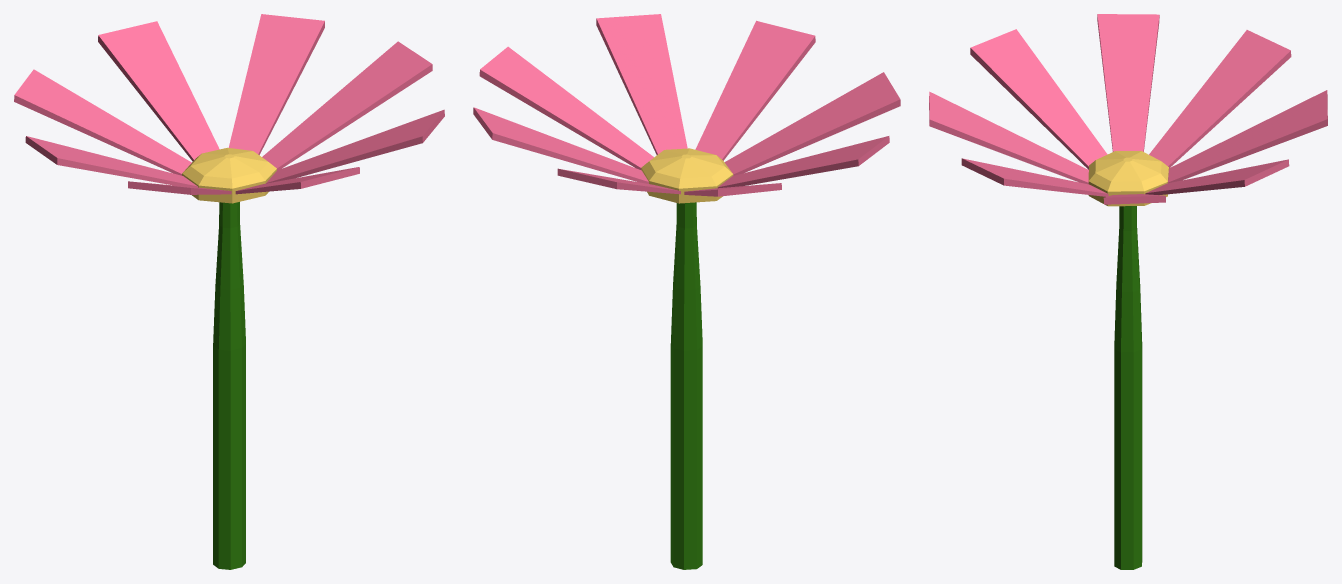
The model's file is flower.glb.
3 renders of one model, left to right at view 1: azimuth 30°, elevation 25°; view 2: azimuth 150°, elevation 25°; view 3: azimuth 270°, elevation 25°, orthographic.
Visible parts, largest first — view 1: Cube; view 2: Cube; view 3: Cube.
Boxes of the visible parts, x1,y1,x2,y2 form: Cube: [14, 14, 444, 569]; Cube: [473, 14, 900, 569]; Cube: [929, 14, 1327, 569].
Bounding box in the file's own units: 58.94 × 68.71 × 54.12.
